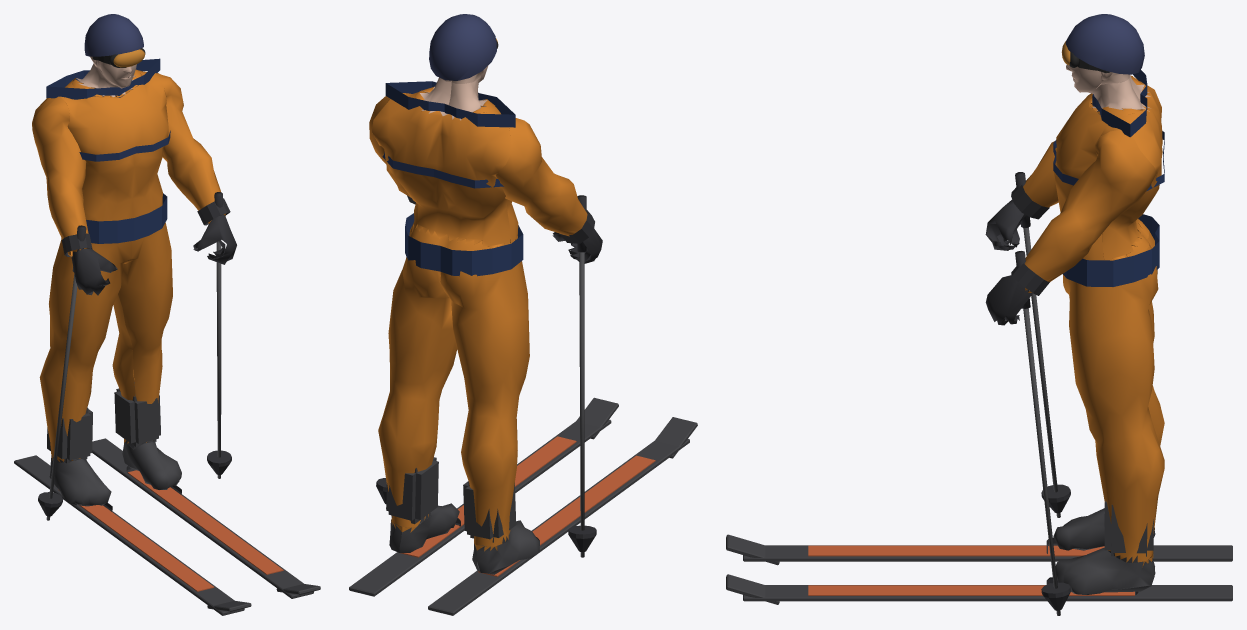
File: guest-4.glb
3 renders of one model, left to right at view 1: azimuth 30°, elevation 25°; view 2: azimuth 150°, elevation 25°; view 3: azimuth 270°, elevation 25°, orthographic. The views are drawn at different scales.
Visible parts, largest first — view 1: guest-4; view 2: guest-4; view 3: guest-4.
Boxes of the visible parts, box(x1,y1,x2,y2) form: guest-4: box(14, 14, 320, 615); guest-4: box(349, 14, 697, 615); guest-4: box(726, 14, 1232, 615).
Bounding box in the file's own units: 0.8159 × 1.96 × 1.6.
